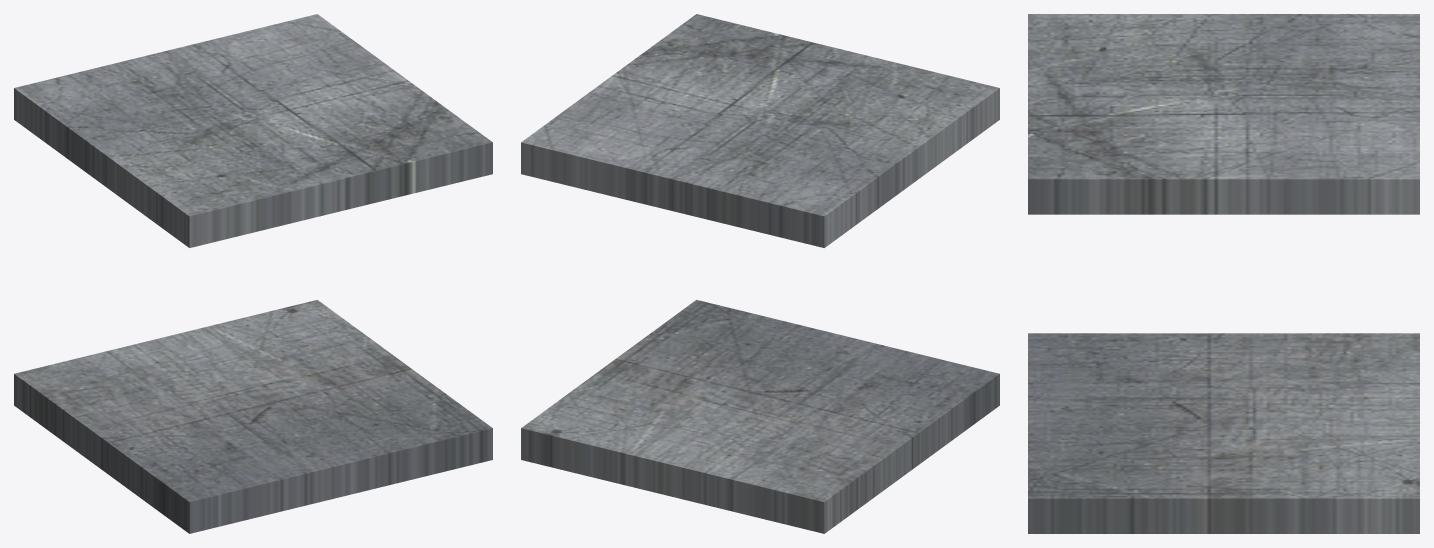
Rendered from TheOuterLevel.fbx_3x3_4Pass.fbx.
3 renders of one model, left to right at view 1: azimuth 30°, elevation 25°; view 2: azimuth 150°, elevation 25°; view 3: azimuth 270°, elevation 25°, orthographic. The views are drawn at different scales.
Visible parts, largest first — view 1: 3x3_4Pass; view 2: 3x3_4Pass; view 3: 3x3_4Pass.
Boxes of the visible parts, left/top/right/bottom form: 3x3_4Pass: left=14, top=14, right=492, bottom=533; 3x3_4Pass: left=521, top=14, right=999, bottom=533; 3x3_4Pass: left=1028, top=14, right=1419, bottom=533.
Size of the model in its own units: 300 by 300 by 300.
1 material, 1 textured.
